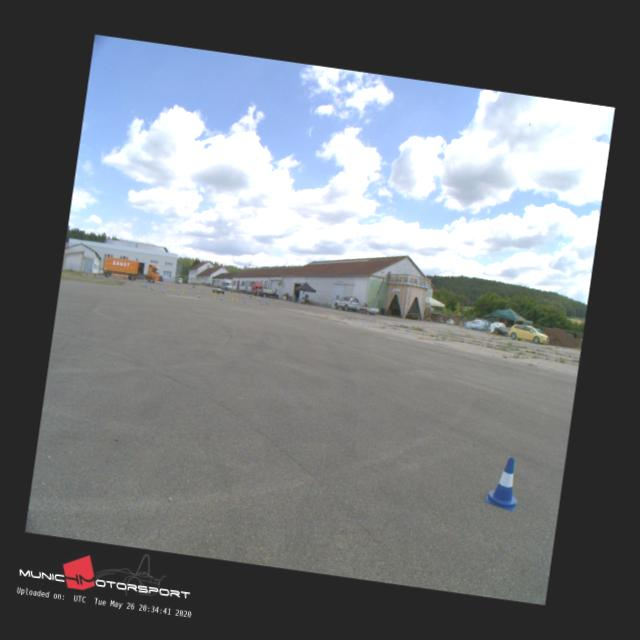blue_cone: (484, 454, 523, 512)
